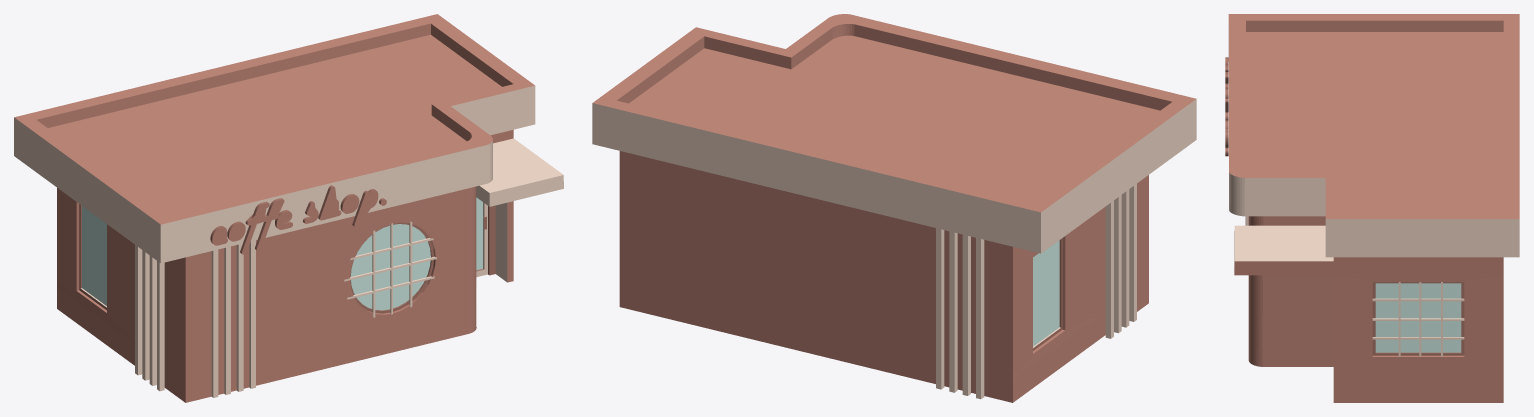
File: CoffeShop.fbx
3 renders of one model, left to right at view 1: azimuth 30°, elevation 25°; view 2: azimuth 150°, elevation 25°; view 3: azimuth 270°, elevation 25°, orthographic. The views are drawn at different scales.
Parts seen in each view (by area): view 1: coffe_shop; view 2: coffe_shop; view 3: coffe_shop.
Part boxes in pixels (x1,y1,x2,y2): coffe_shop: (14,14,563,402); coffe_shop: (592,14,1196,402); coffe_shop: (1225,14,1519,402).
Size of the model in its own units: 879 by 386 by 534.
